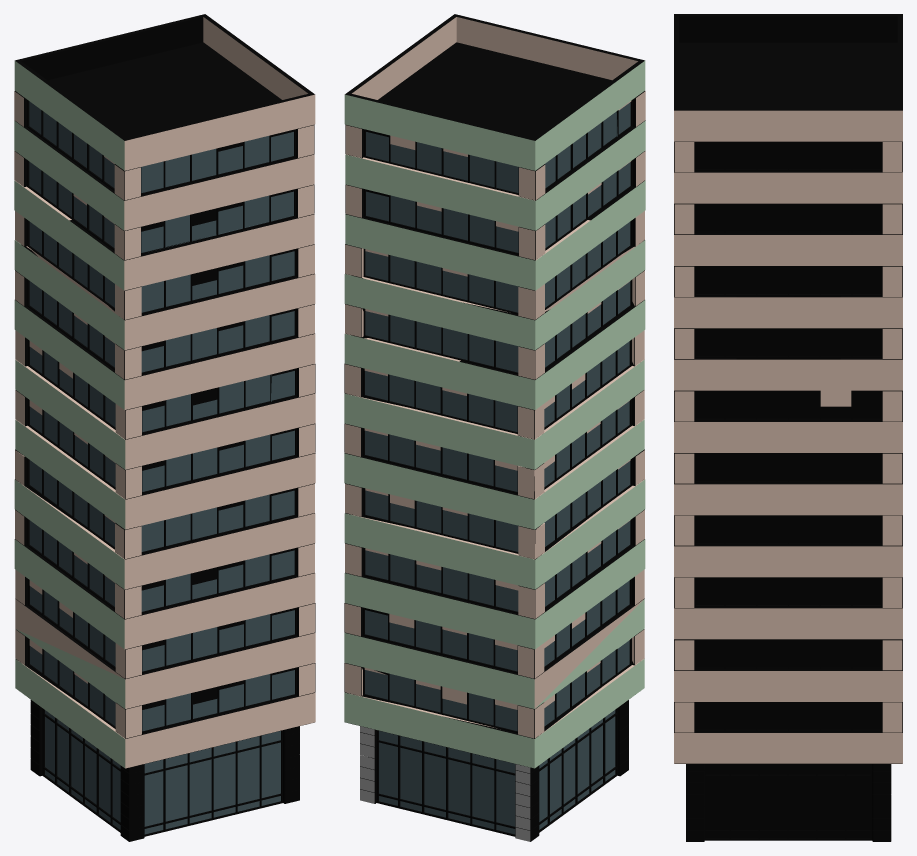
Rendered from town- build 1.fbx.
3 renders of one model, left to right at view 1: azimuth 30°, elevation 25°; view 2: azimuth 150°, elevation 25°; view 3: azimuth 270°, elevation 25°, orthographic. The views are drawn at different scales.
Parts seen in each view (by area): view 1: pasted__Object157; view 2: pasted__Object157; view 3: pasted__Object157.
Boxes of the visible parts, x1,y1,x2,y2 form: pasted__Object157: (14,14,315,841); pasted__Object157: (344,14,645,841); pasted__Object157: (674,14,902,841).
Size of the model in its own units: 9.11 by 32.17 by 9.06.
